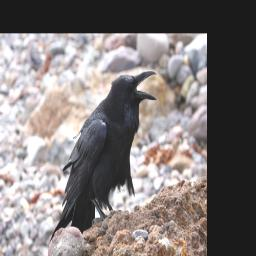Crow: (48, 71, 157, 242)
